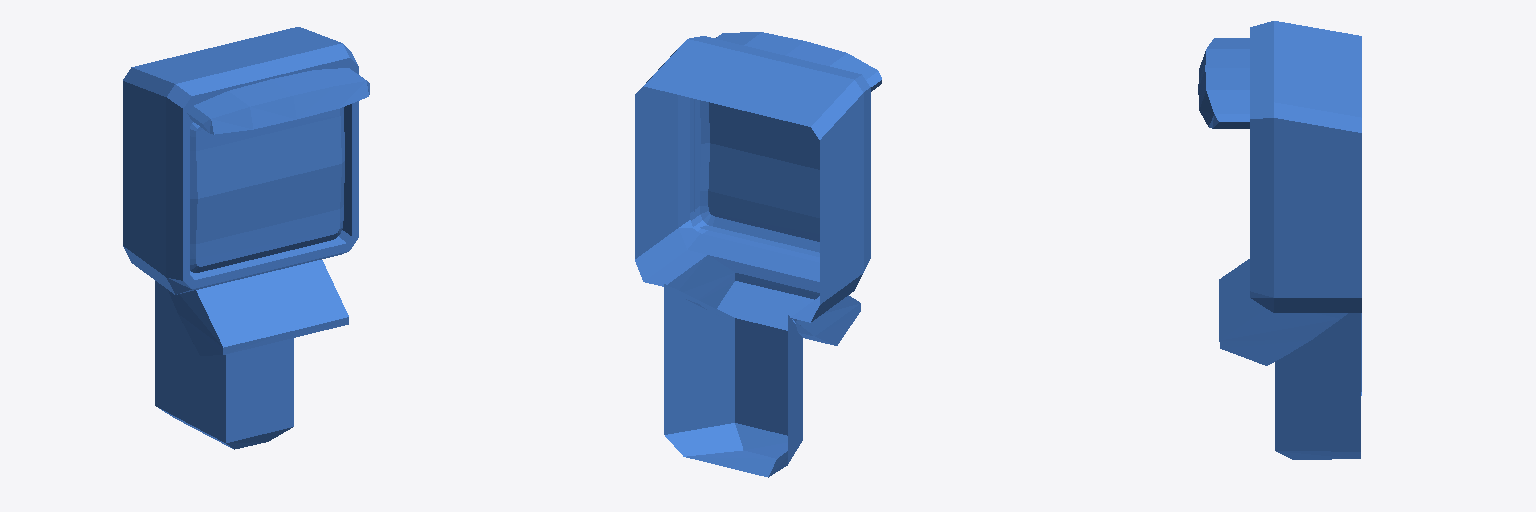
File: Terminal.obj
The picture shows the model from 3 angles: view 1: azimuth 30°, elevation 25°; view 2: azimuth 150°, elevation 25°; view 3: azimuth 270°, elevation 25°; orthographic projection.
Visible parts, largest first — view 1: Terminal; view 2: Terminal; view 3: Terminal.
Part boxes in pixels (bbox=[...]): Terminal: bbox=[123, 27, 369, 449]; Terminal: bbox=[635, 32, 881, 477]; Terminal: bbox=[1198, 21, 1361, 459].
Bounding box in the file's own units: 40.37 × 81.1 × 30.89.